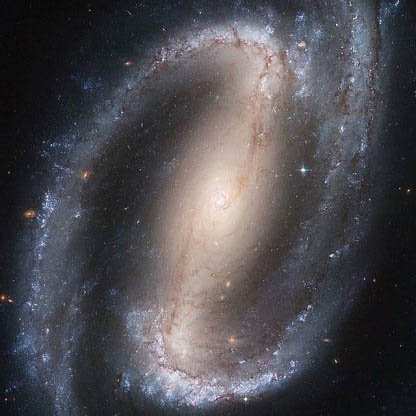NGC 1300: (17, 9, 403, 407)
